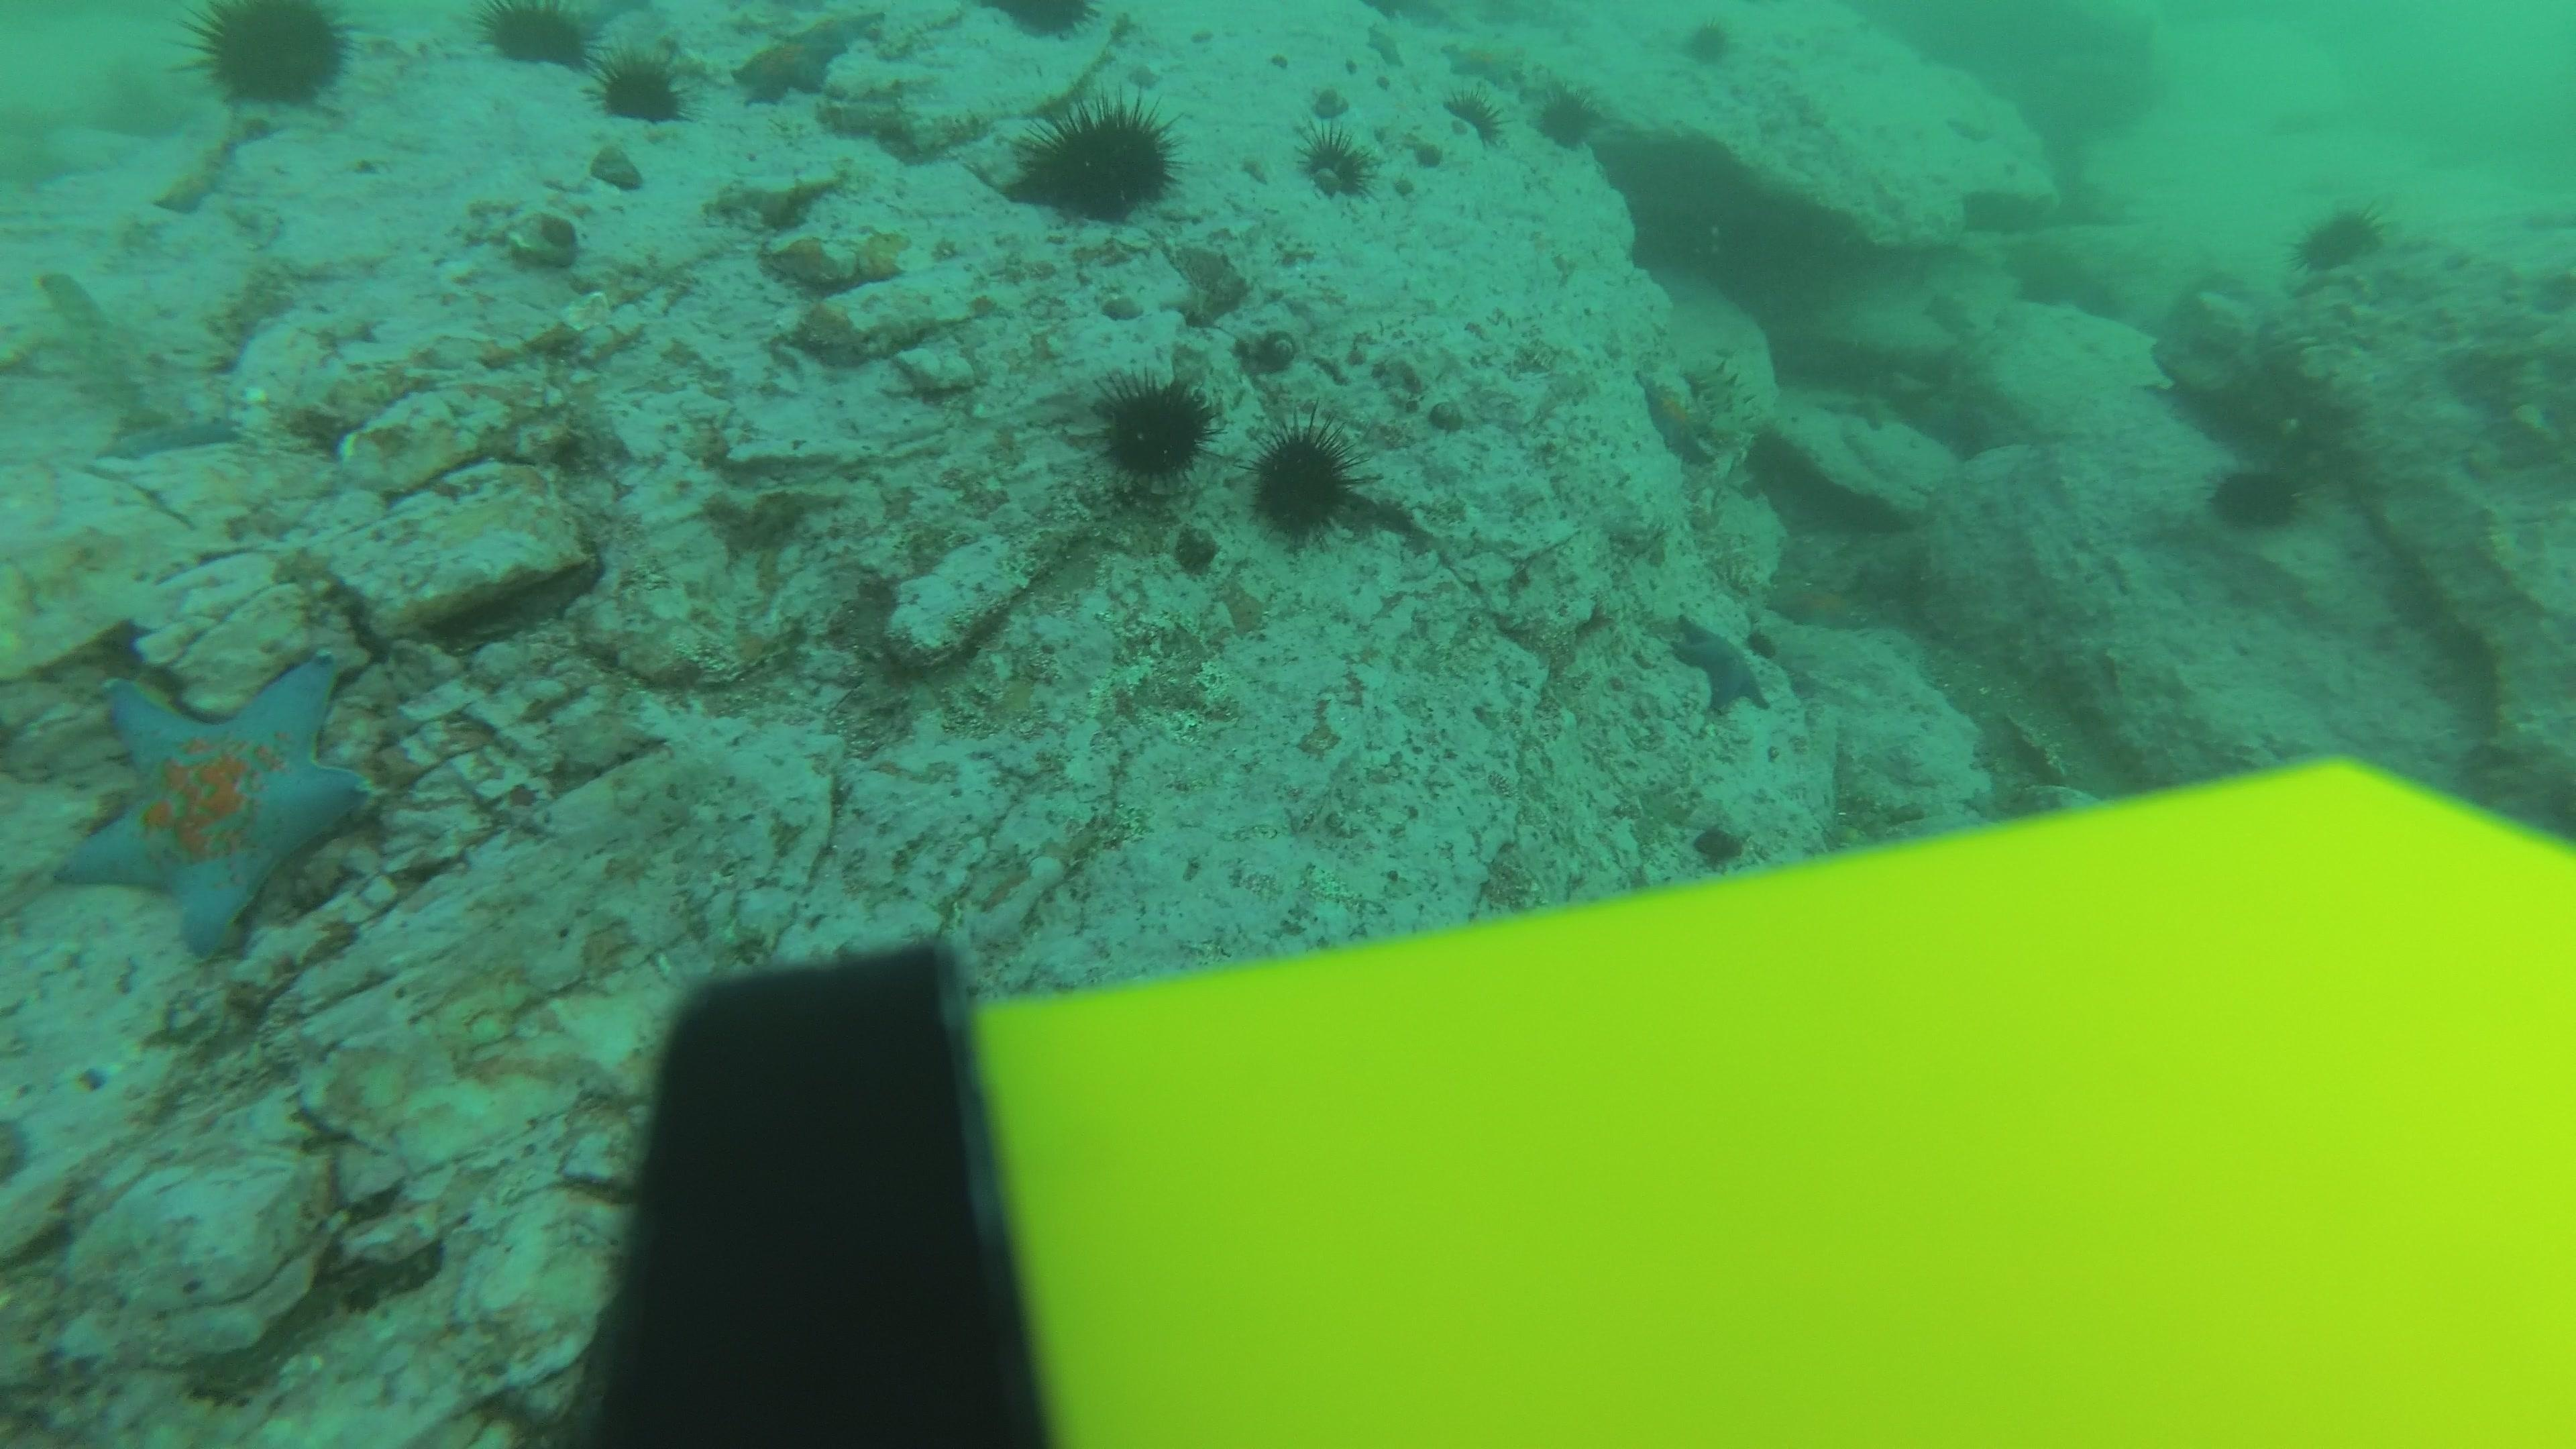echinus: (1008, 92, 1182, 226), (180, 2, 359, 117), (1086, 368, 1217, 485), (1246, 419, 1366, 545), (474, 0, 600, 76), (2204, 455, 2309, 538), (589, 48, 692, 131), (2289, 196, 2388, 276), (1297, 127, 1376, 203), (1529, 81, 1603, 154), (989, 0, 1100, 44), (1442, 85, 1507, 147), (1679, 14, 1737, 69)
starfish: (50, 649, 377, 959), (25, 260, 239, 449), (727, 9, 885, 108), (1663, 610, 1785, 720), (88, 405, 246, 465), (1635, 364, 1723, 467), (1764, 568, 1874, 635), (1438, 37, 1530, 90), (149, 161, 225, 219), (1440, 55, 1513, 115), (1442, 87, 1506, 147), (586, 142, 646, 195)
